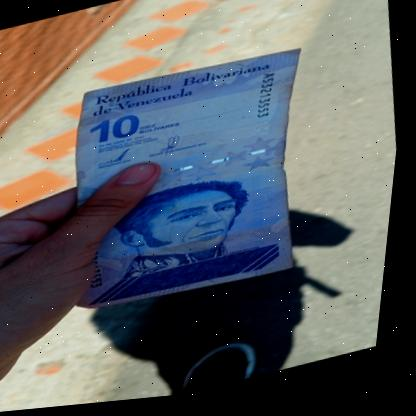ten-front-vef: (43, 39, 340, 327)
